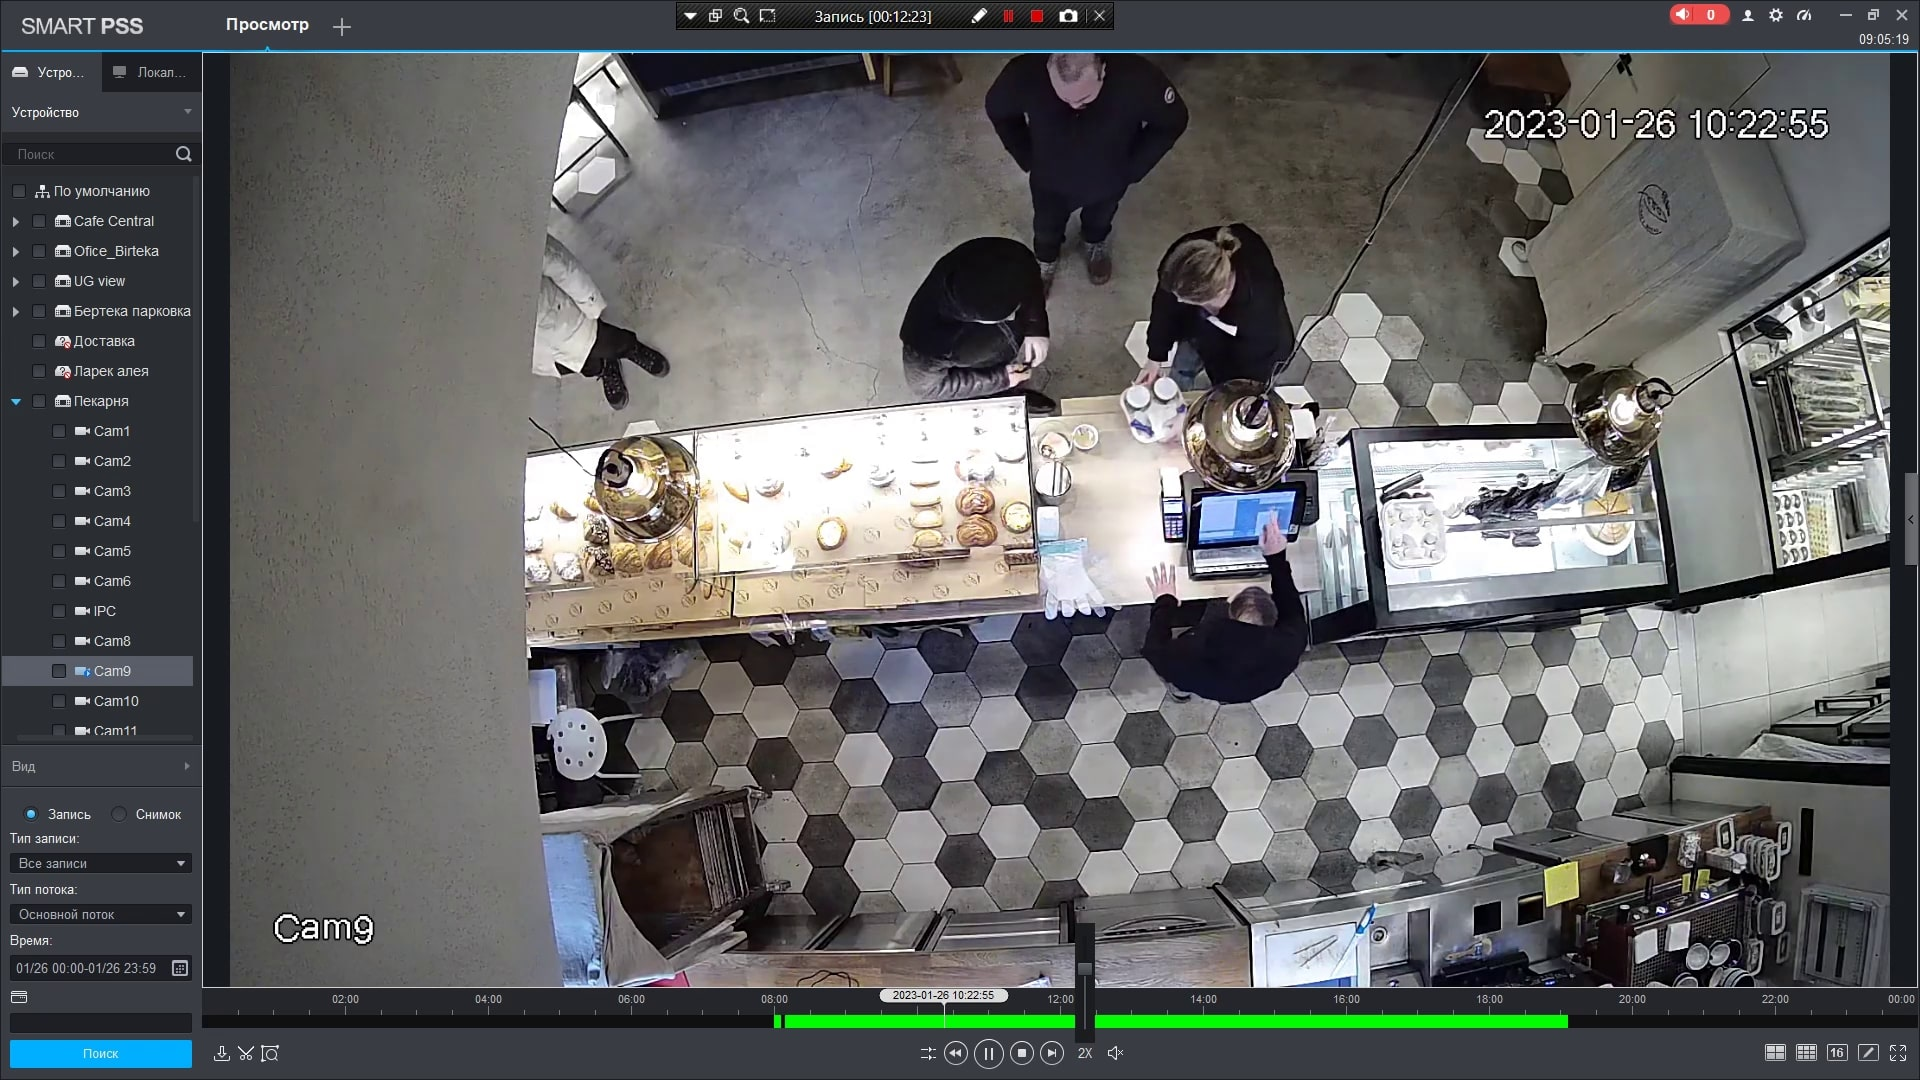barcounter: (547, 433, 1698, 646)
coffee: (1151, 372, 1186, 397), (1127, 385, 1159, 409)
person: (983, 58, 1171, 275), (895, 238, 1069, 407), (1144, 226, 1300, 377)
